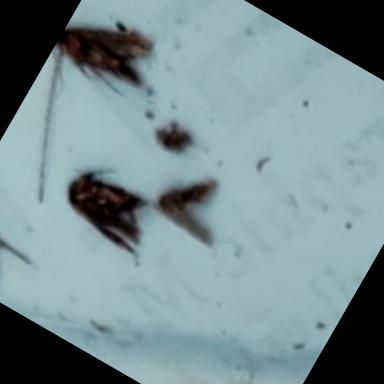pbw: (44, 1, 164, 112), (50, 155, 166, 259), (144, 157, 240, 251), (0, 185, 49, 297)
